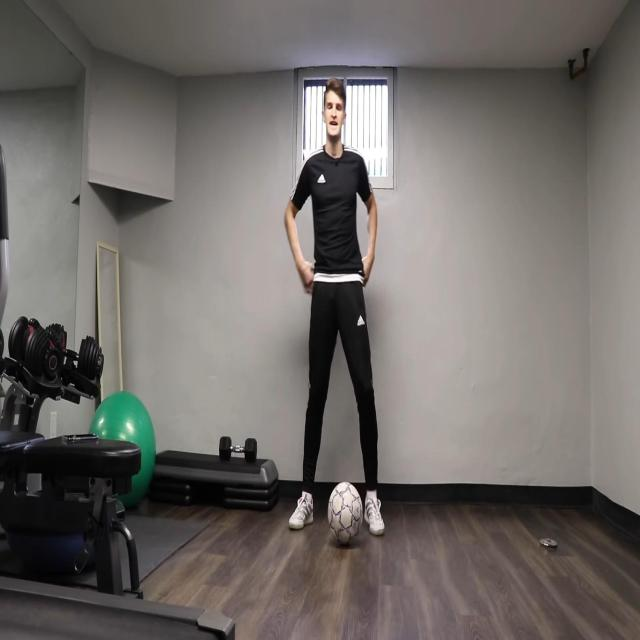Soccer Ball: (328, 481, 363, 548)
